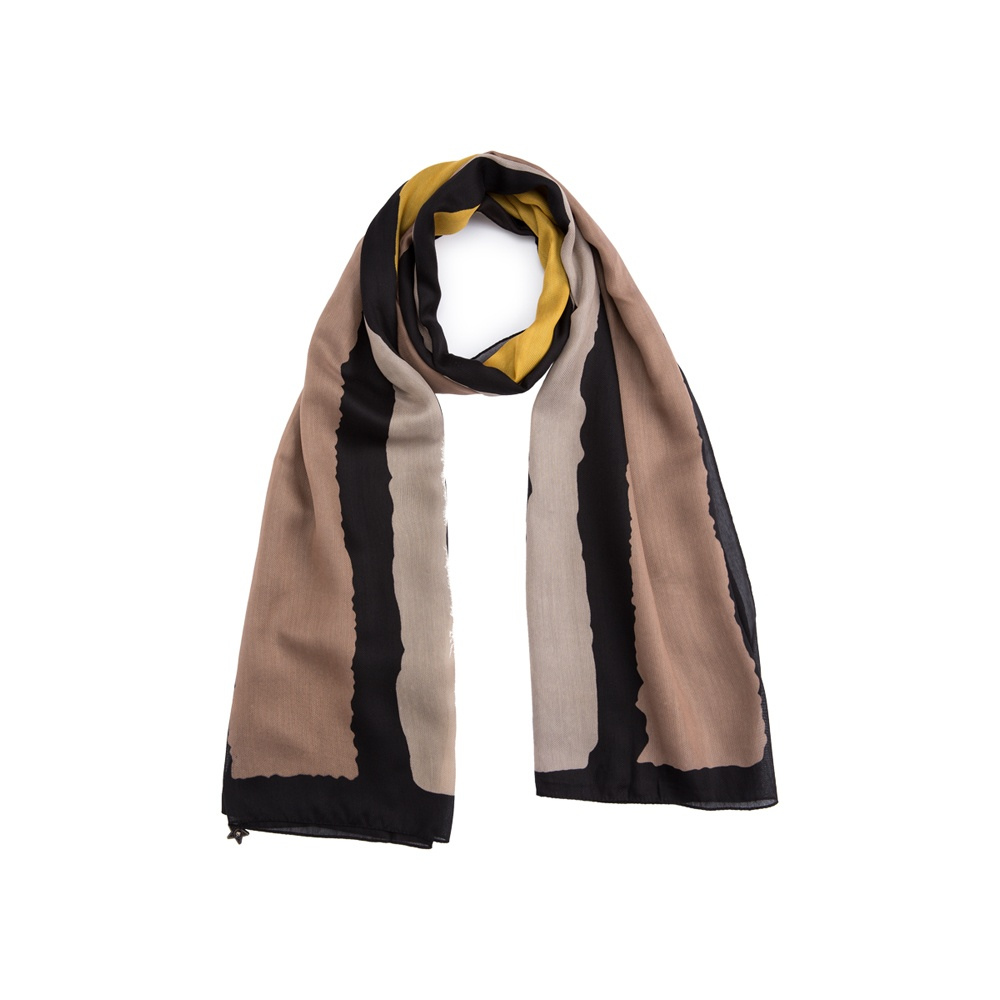flexible: (213, 145, 787, 858)
